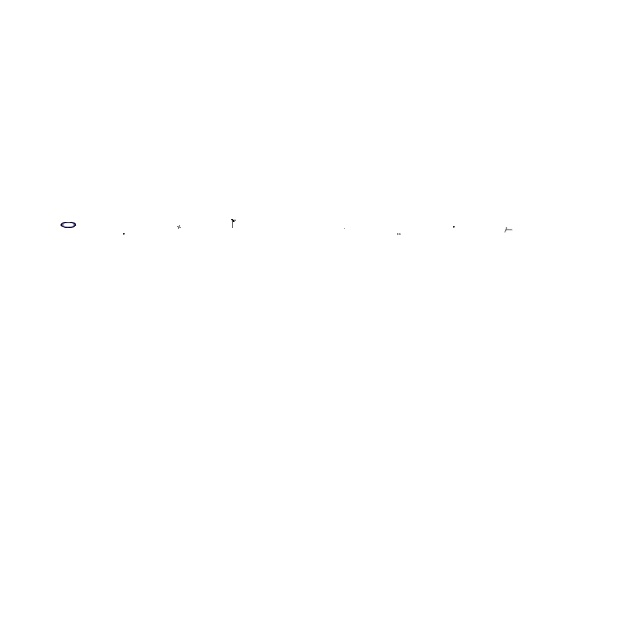chain: (60, 218, 78, 232), (397, 233, 401, 235), (123, 233, 125, 235), (343, 228, 345, 230), (453, 226, 455, 228)
double treble: (232, 220, 236, 228)
enseble_chain: (504, 227, 514, 233), (177, 225, 181, 229)
